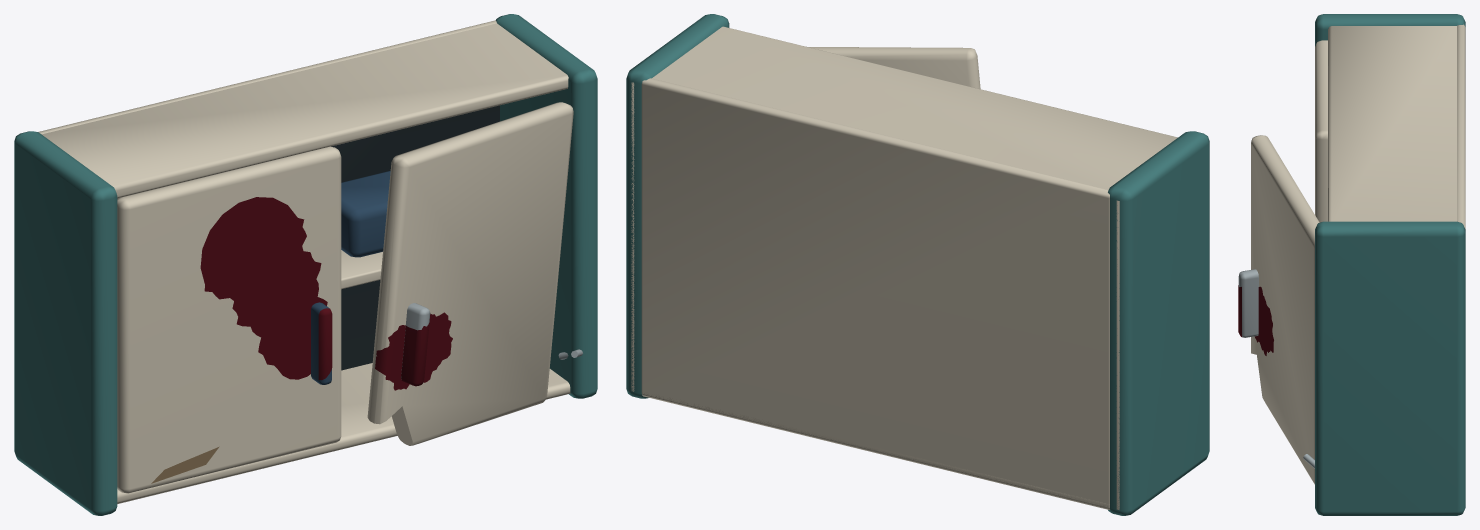
File: wall_cupboard.glb
The picture shows the model from 3 angles, left to right: view 1: azimuth 30°, elevation 25°; view 2: azimuth 150°, elevation 25°; view 3: azimuth 270°, elevation 25°; orthographic projection. The views are drawn at different scales.
Parts seen in each view (by area): view 1: OB_WallCupboard_01_Static; view 2: OB_WallCupboard_01_Static; view 3: OB_WallCupboard_01_Static.
Part boxes in pixels (<box>): OB_WallCupboard_01_Static: <box>14,14,597,515</box>; OB_WallCupboard_01_Static: <box>626,14,1209,515</box>; OB_WallCupboard_01_Static: <box>1238,14,1465,515</box>.
Size of the model in its own units: 1.1 by 0.68 by 0.4827.
